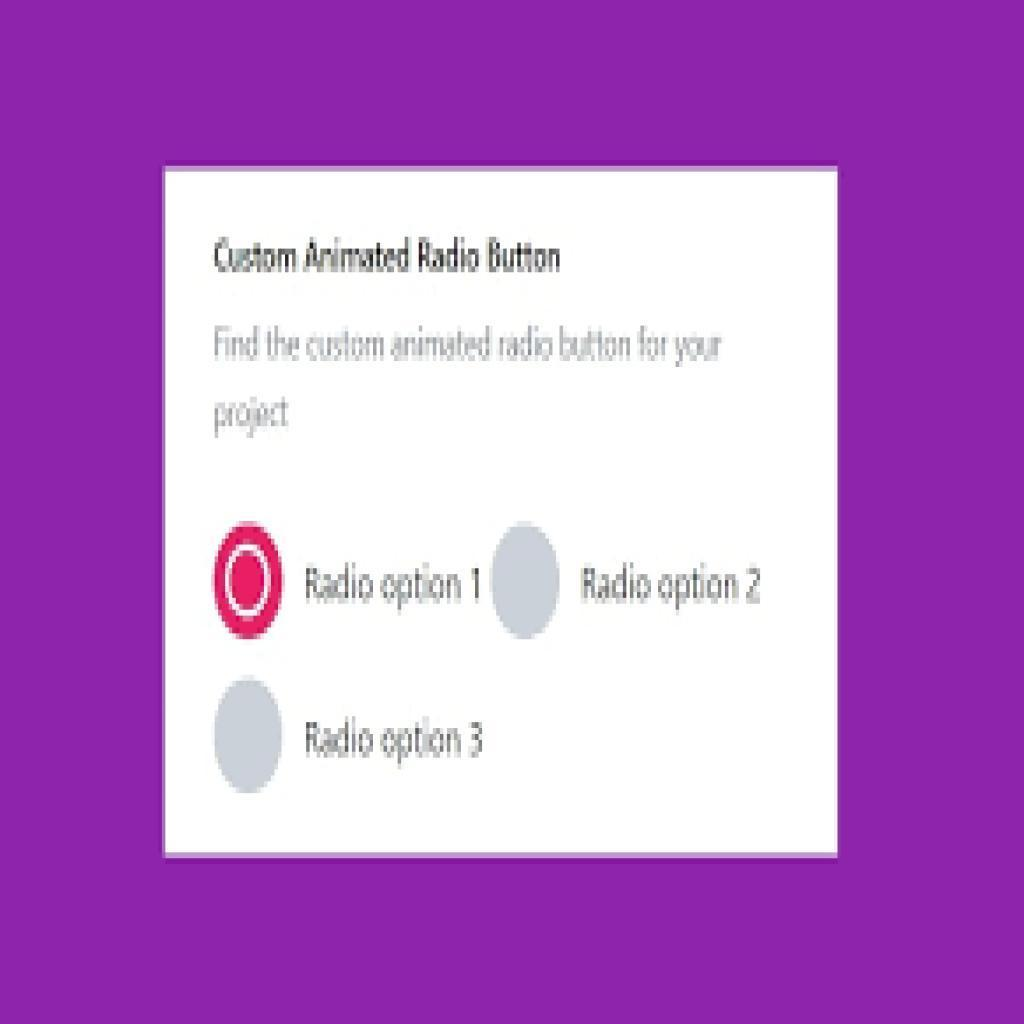label: (302, 560, 484, 611), (575, 565, 772, 610), (306, 716, 490, 763)
radio: (213, 520, 291, 640), (492, 517, 563, 645), (212, 676, 287, 796)
